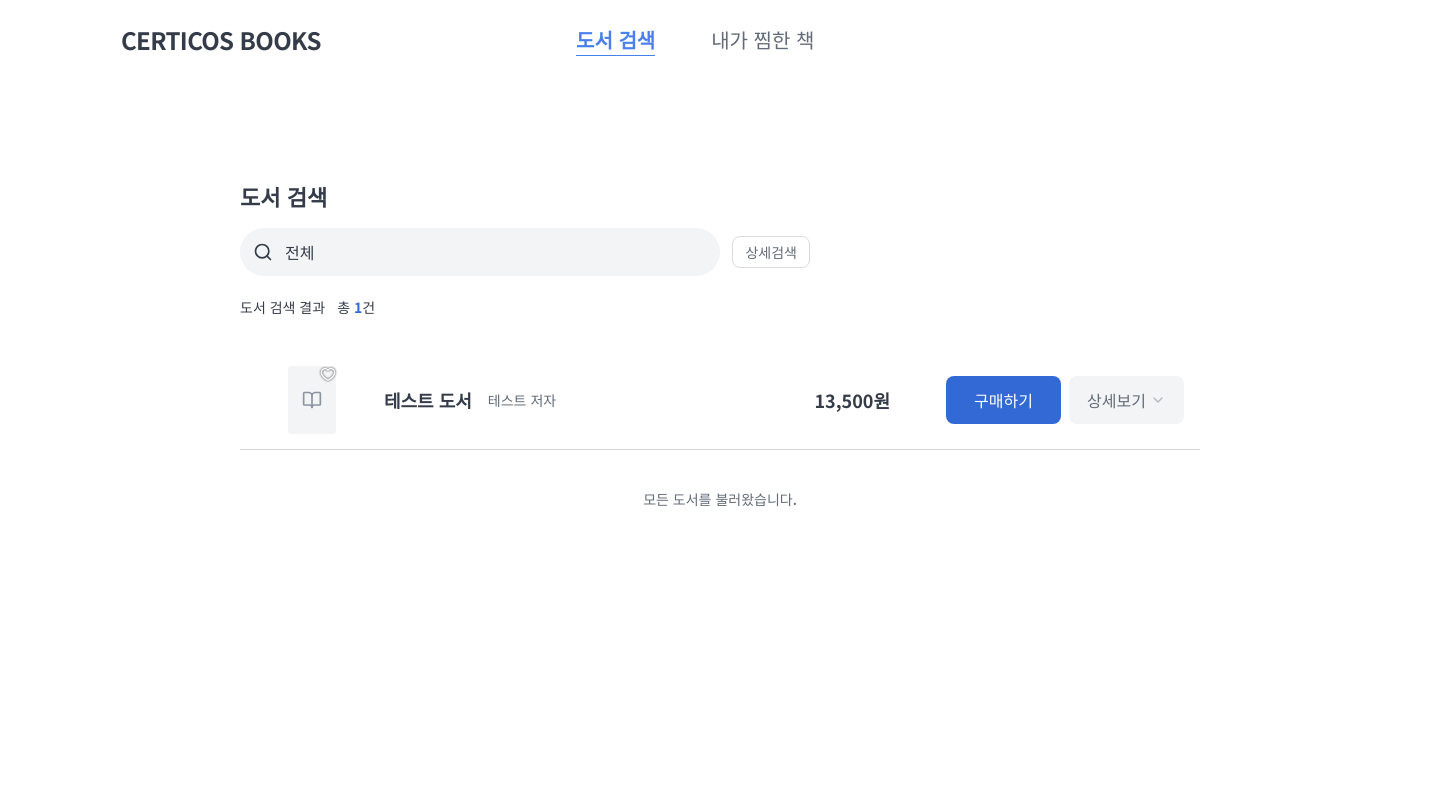
Test: 검색 페이지 › 상세검색은 대상과 검색어를 전달하고 전체검색과 상호 초기화한다
Expected: the heading "테스트 도서" is shown, [384,390,472,408]
Click the button "상세검색" at (771, 252), box [732,236,810,268]
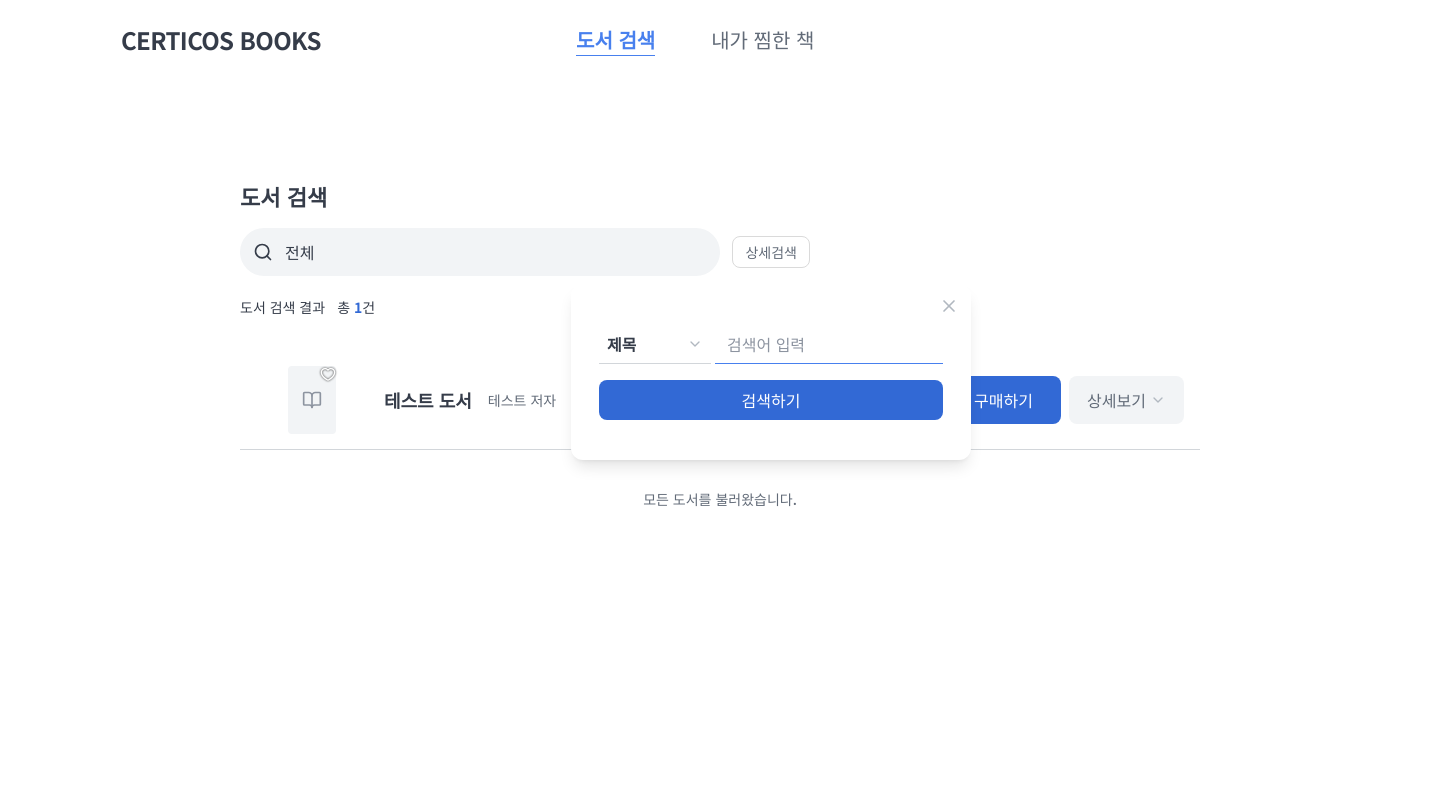
Result: the field named "상세 검색어" is empty at [715,324,943,364]
Click the dropdown named "검색 대상" at (655, 344), box [599,324,711,364]
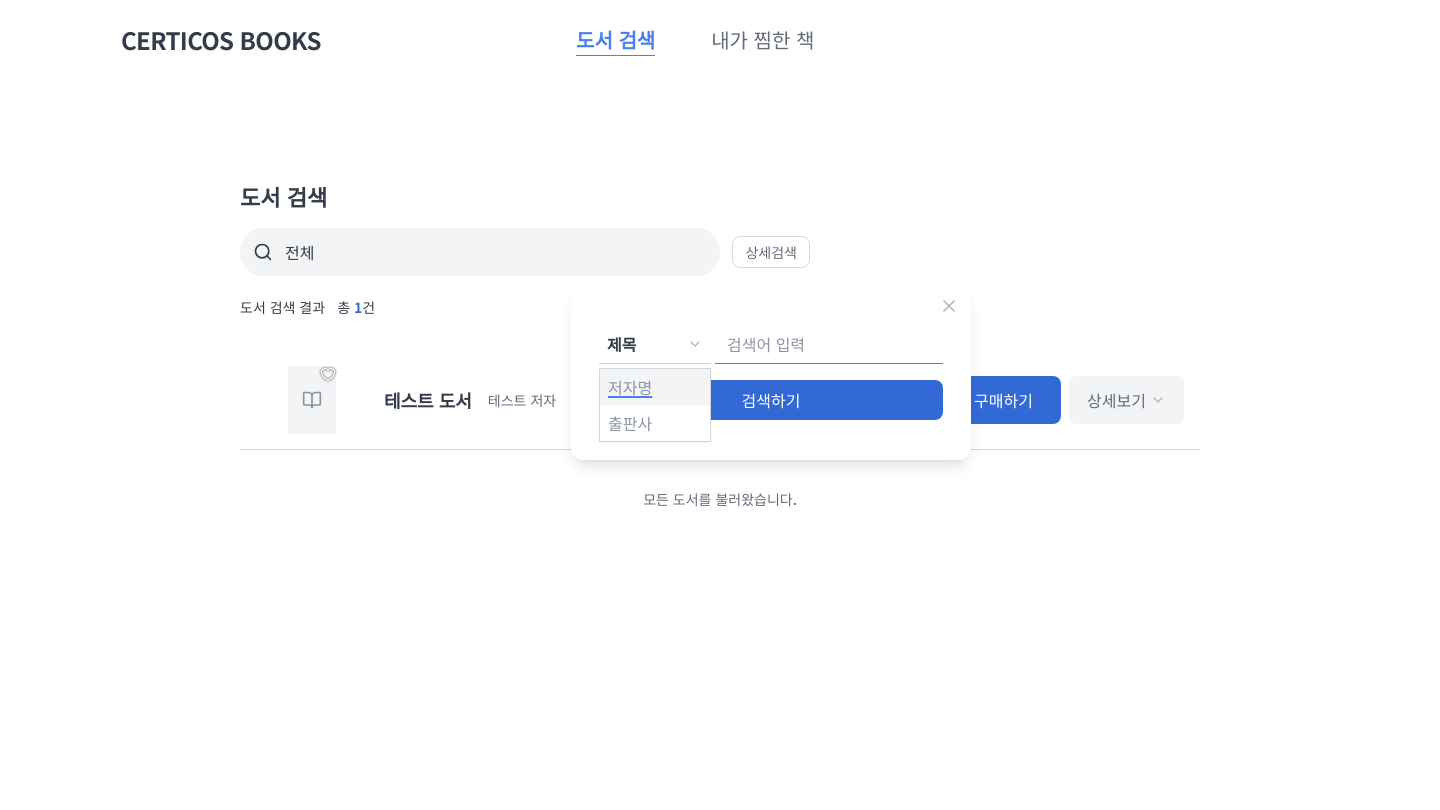
Click the option "저자명" at (656, 387), box [600,369,712,405]
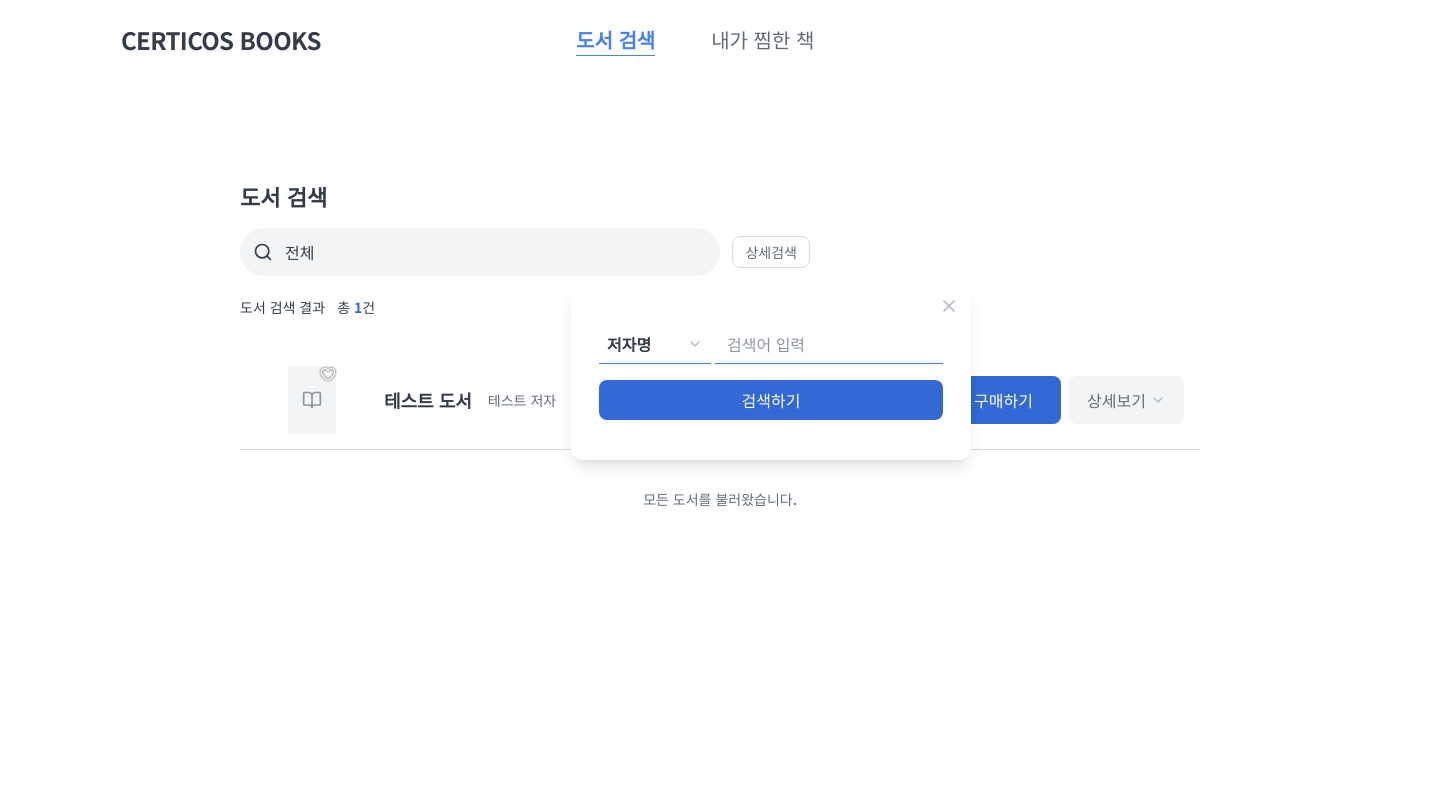
Type " 하루키 " into the field named "상세 검색어" at (829, 344), box [715,324,943,364]
Click the button "검색하기" at (771, 400), box [599,380,943,420]
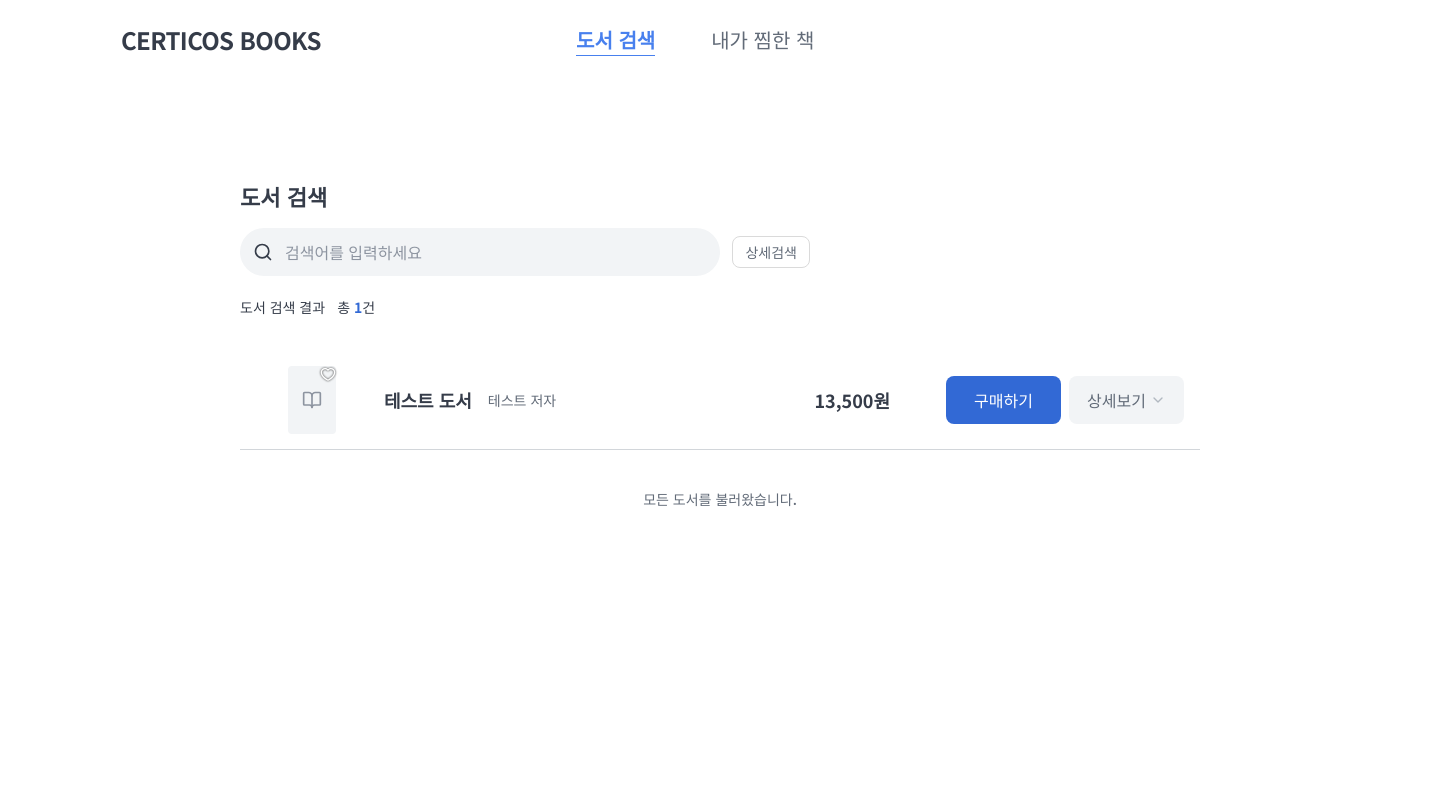
Expected: the field labelled "상세 검색어" is not shown
Result: the search field labelled "검색어" is empty
Type "다음" into the search field labelled "검색어" at (496, 252), box [273,229,720,275]
Then press Enter
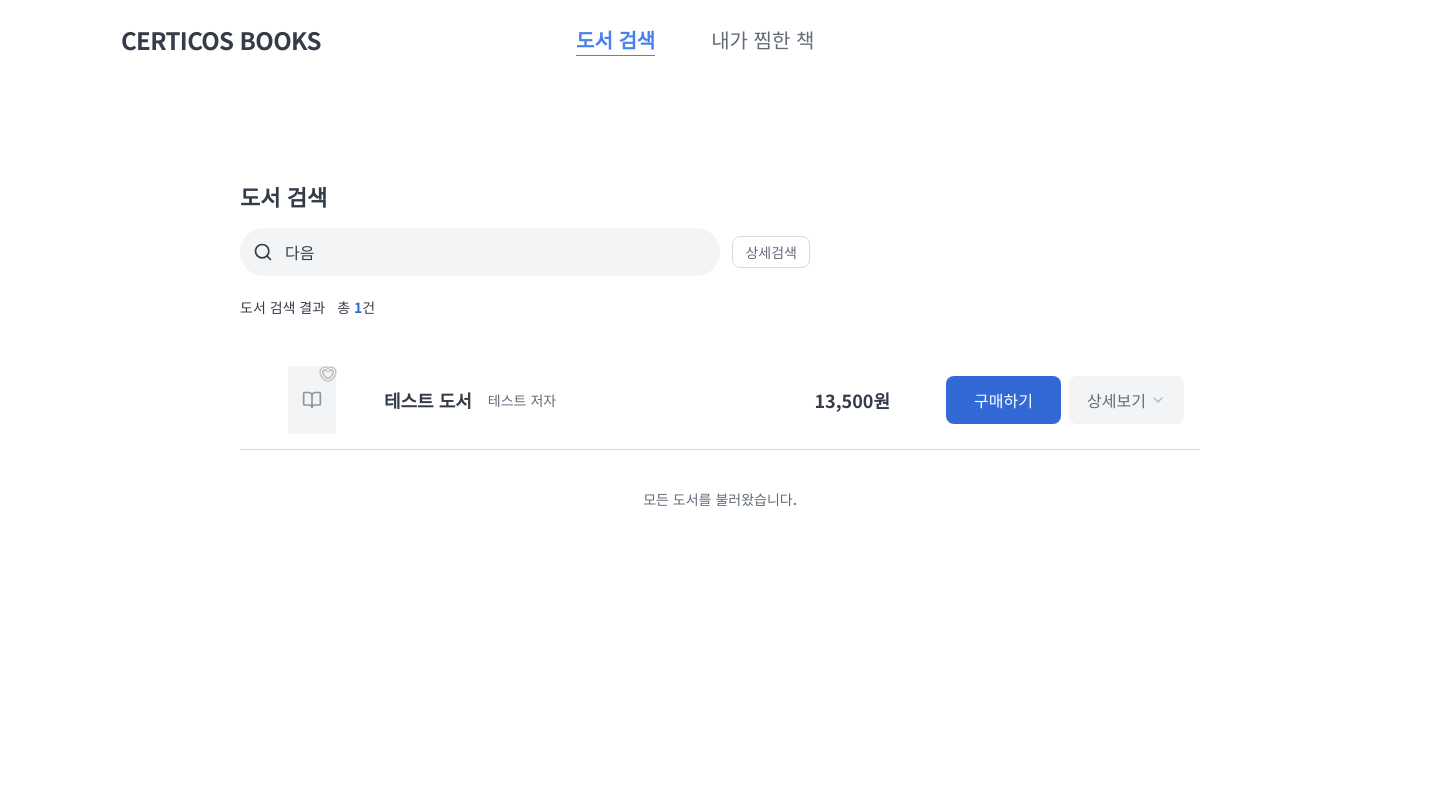
Click the button "상세검색" at (771, 252), box [732,236,810,268]
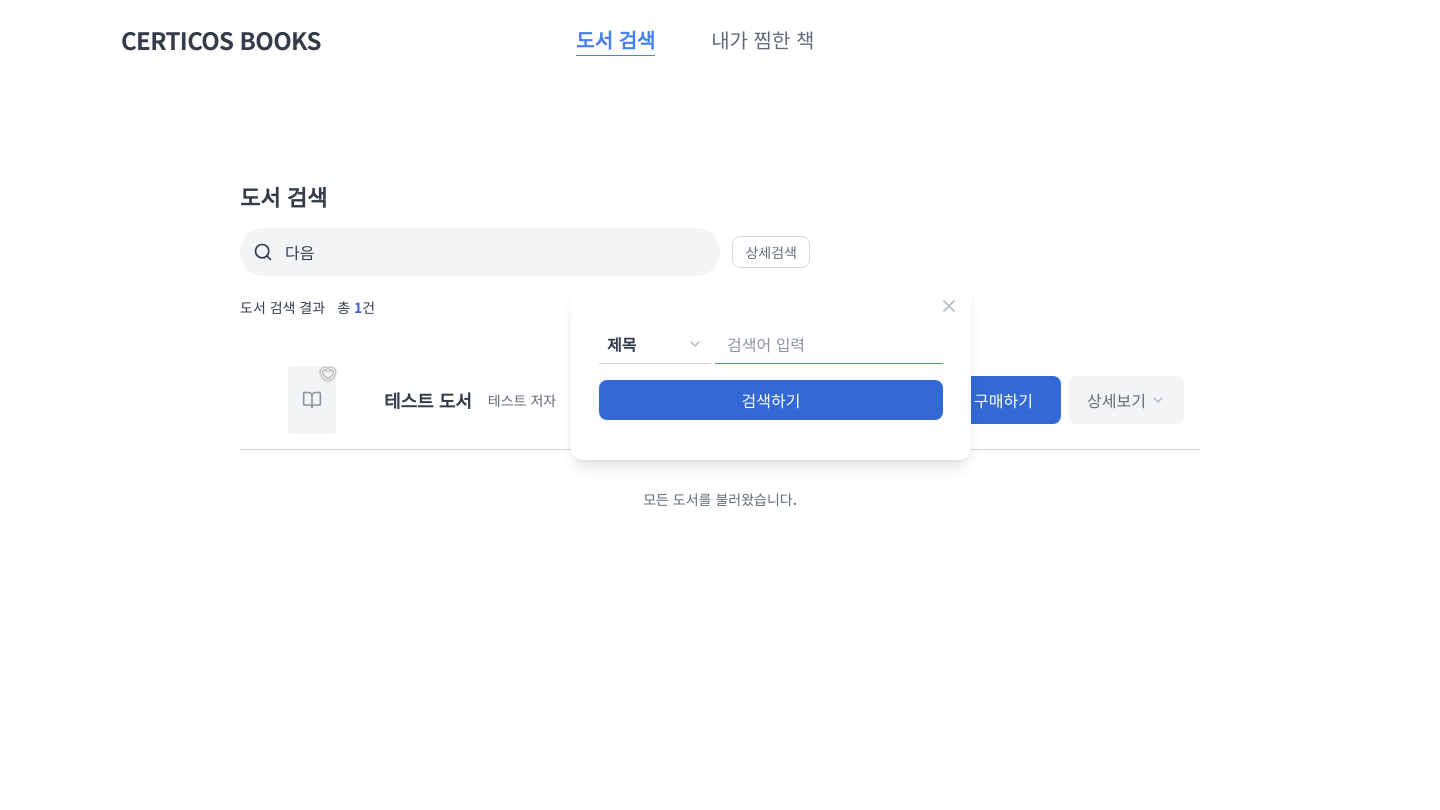
Result: the field named "상세 검색어" is empty at [715,324,943,364]
Result: the dropdown named "검색 대상" reads "제목" at [599,324,711,364]
